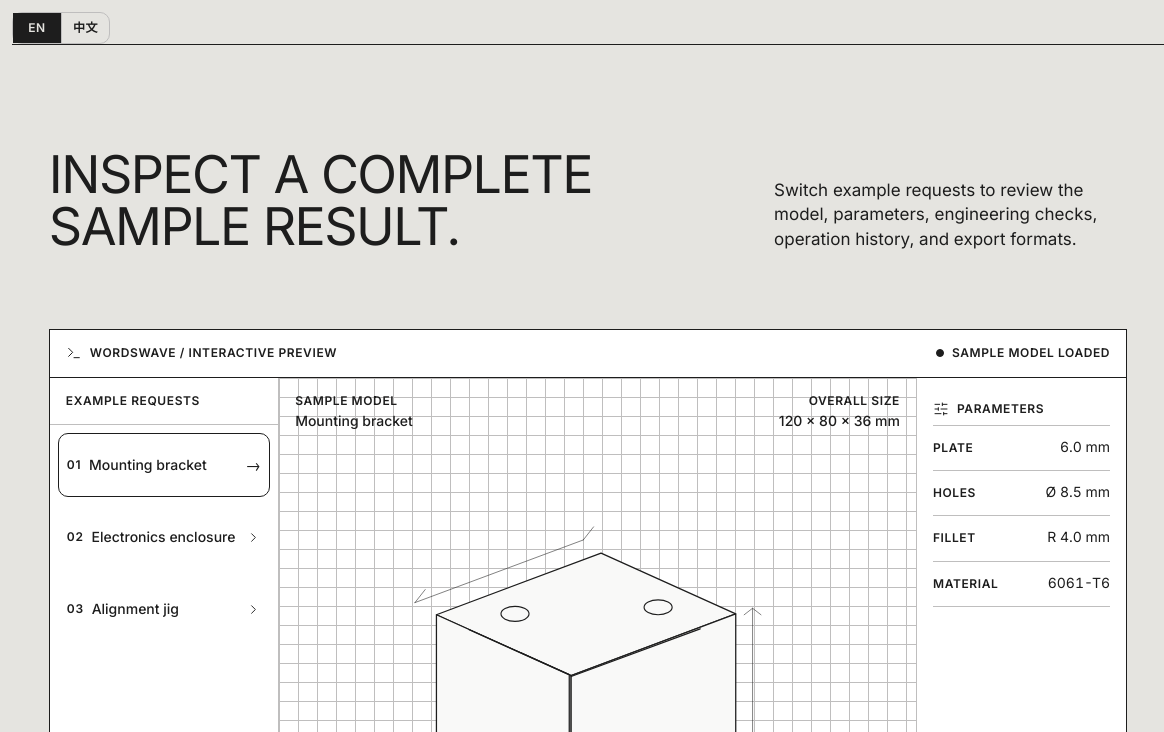
ProductDemo › updates and localizes model evidence without changing engineering values
Expected: the text "WordsWave / Interactive preview" is shown, x1=90 y1=346 x2=337 y2=360
Click the button "02 Electronics enclosure".
click(164, 537)  # box x1=58 y1=505 x2=270 y2=569
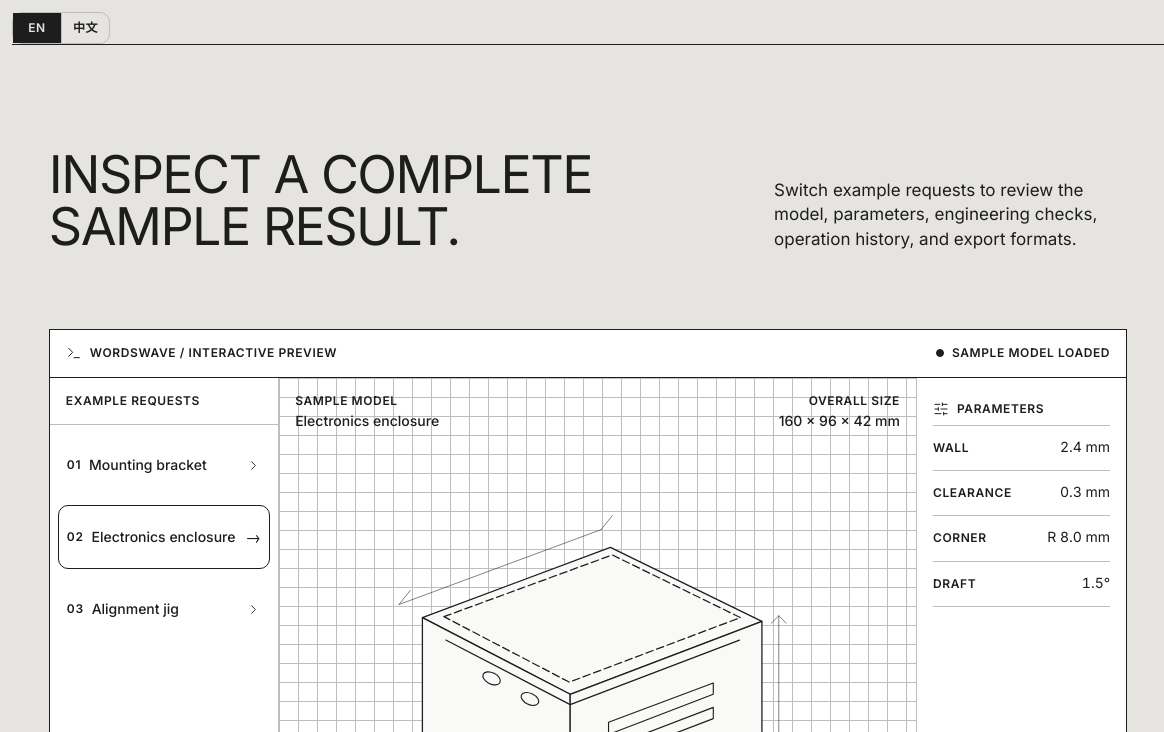
Expected: the text "→" is shown, x1=245 y1=525 x2=261 y2=549
Now the text "160 × 96 × 42 mm" is shown, box x1=779 y1=412 x2=900 y2=432
Click the button "中文".
click(85, 28)  # box x1=61 y1=13 x2=109 y2=43
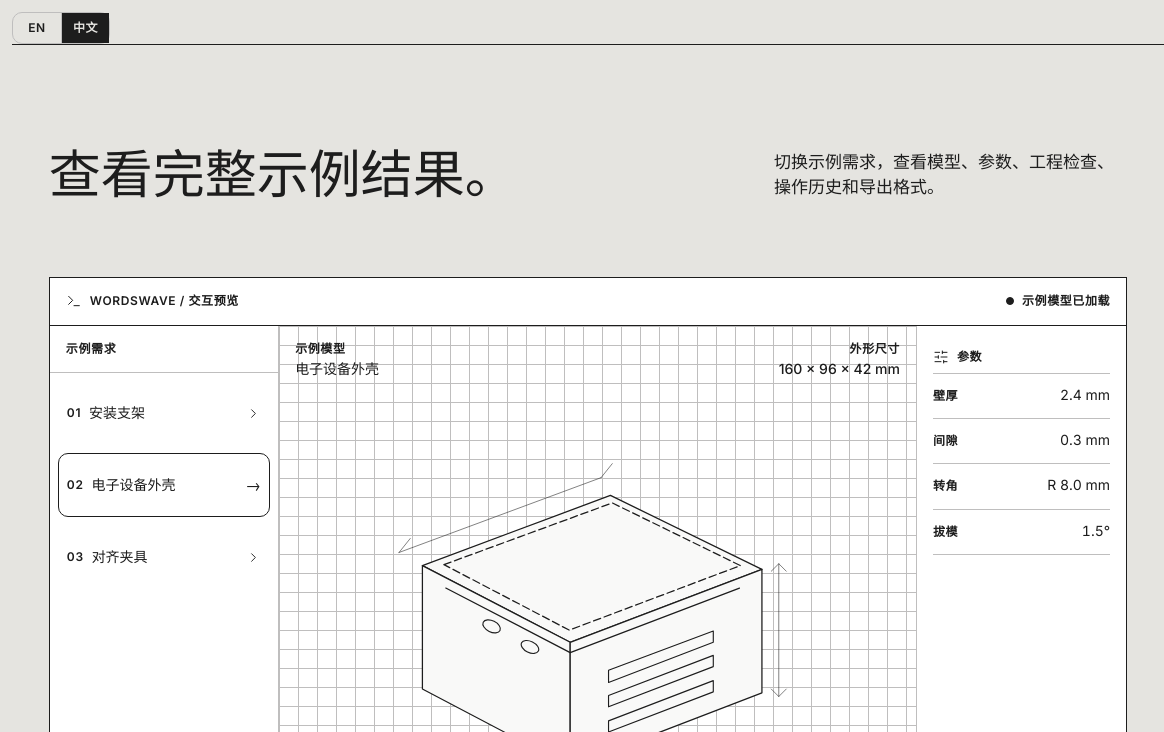
Now the text "160 × 96 × 42 mm" is shown, box x1=779 y1=360 x2=900 y2=380
Now the text "WordsWave / 交互预览" is shown, box x1=90 y1=294 x2=239 y2=308
